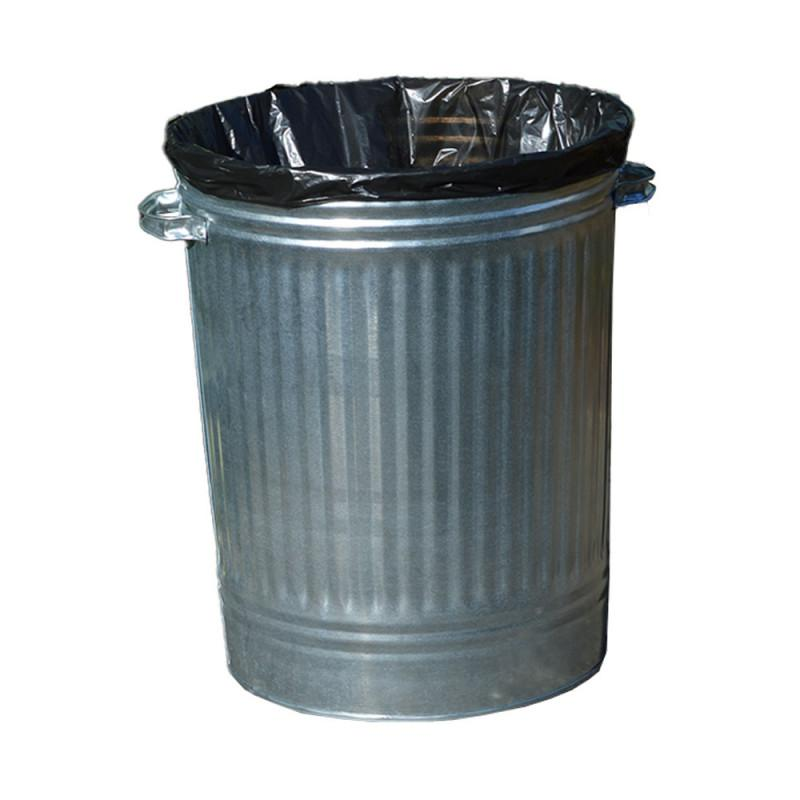trash bin: (127, 70, 685, 737)
